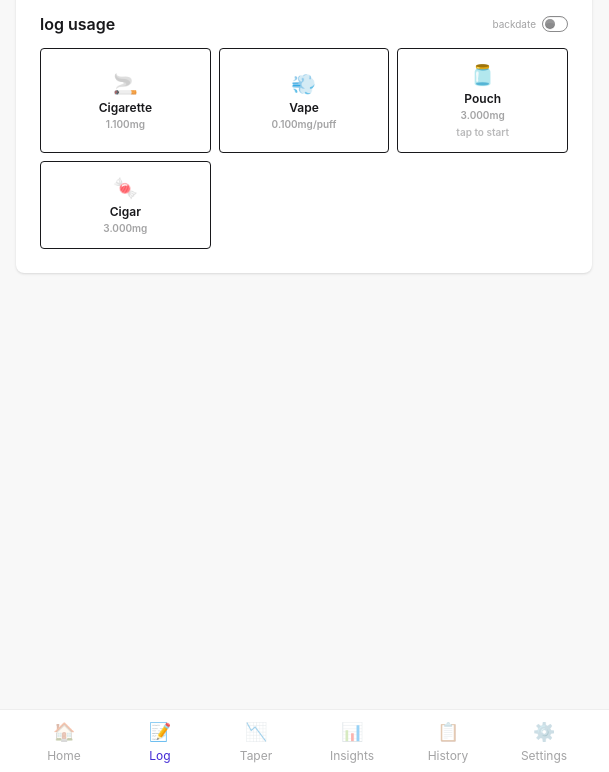
Test case: pouch sessions › pauses a pouch (put in tin) and shows resume button
The width and height of the screenshot is (609, 772).
Click the button "🫙 Pouch 3.000mg tap to start" at (483, 100), box [397,48,568,153]
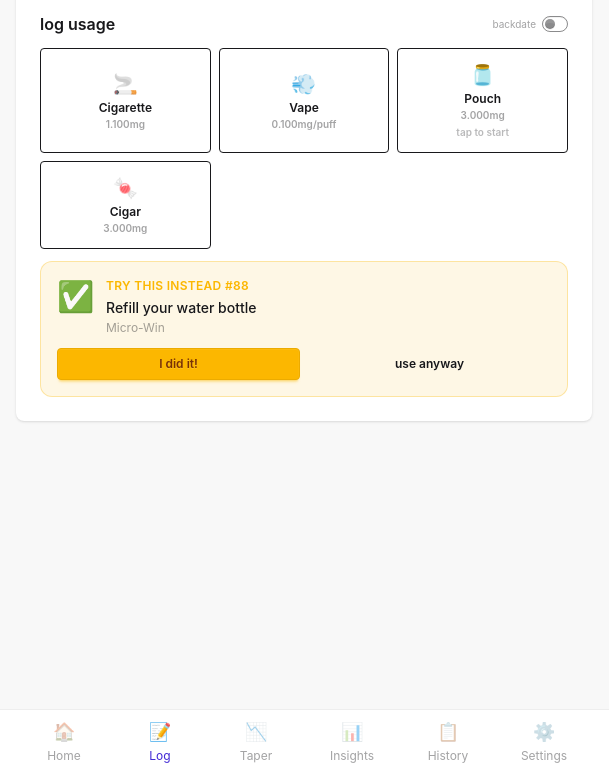
Click the button "use anyway" at (430, 364), box [308,348,551,380]
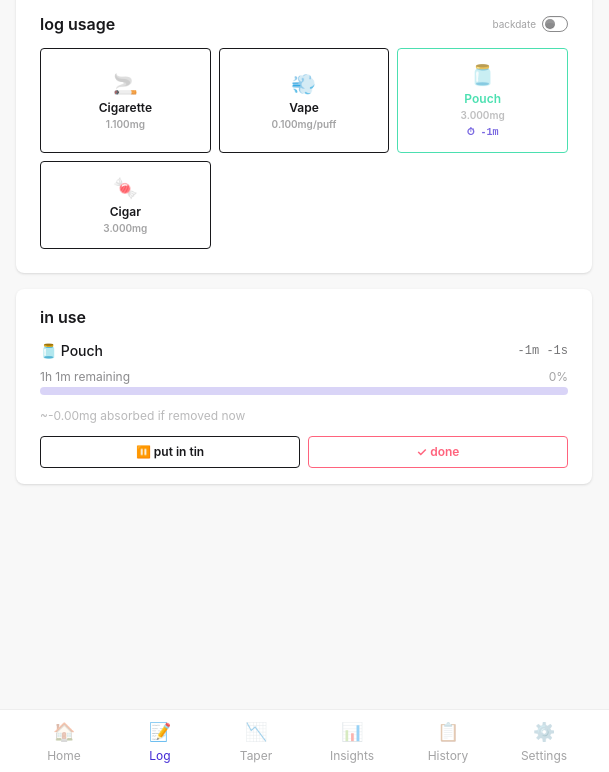
Click the button "⏸ put in tin" at (170, 452), box [40,436,300,468]
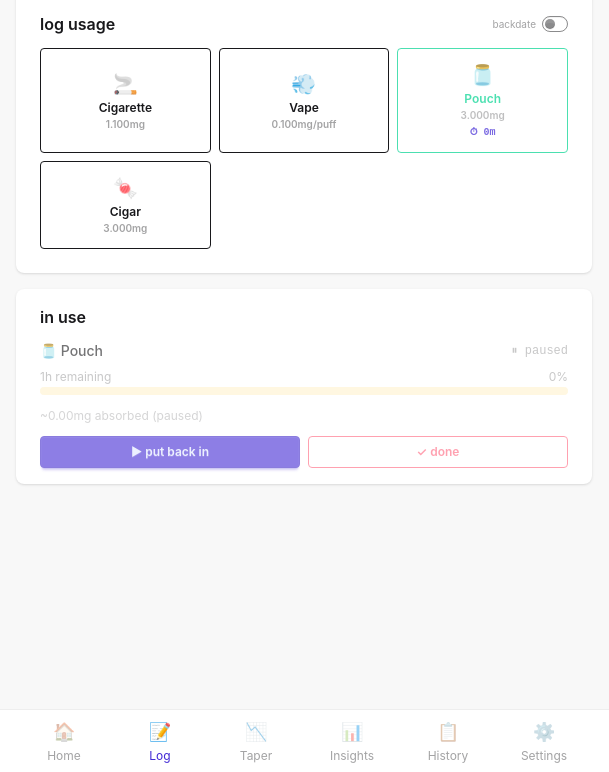
Expected: the text "put back in" is shown, [40,436,300,468]
